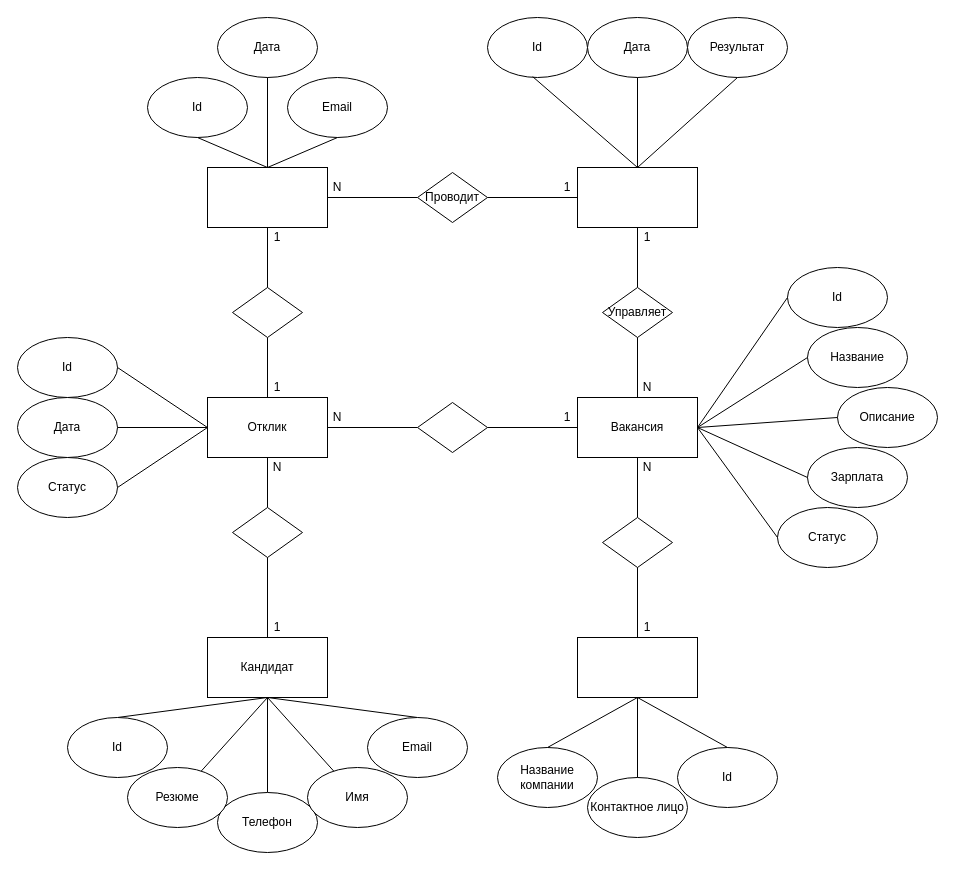
The diagram is 955 pixels wide and 870 high, and some of its shapes have lost their labels. Here are the shapes that lost their labels. From the top down, the centre of each, then its label:
(x=267, y=197): Интервью
(x=637, y=197): Рекрутер
(x=267, y=312): Проводится
(x=452, y=427): Получает
(x=267, y=532): Подаёт
(x=637, y=542): Создаёт
(x=637, y=667): Работодатель
